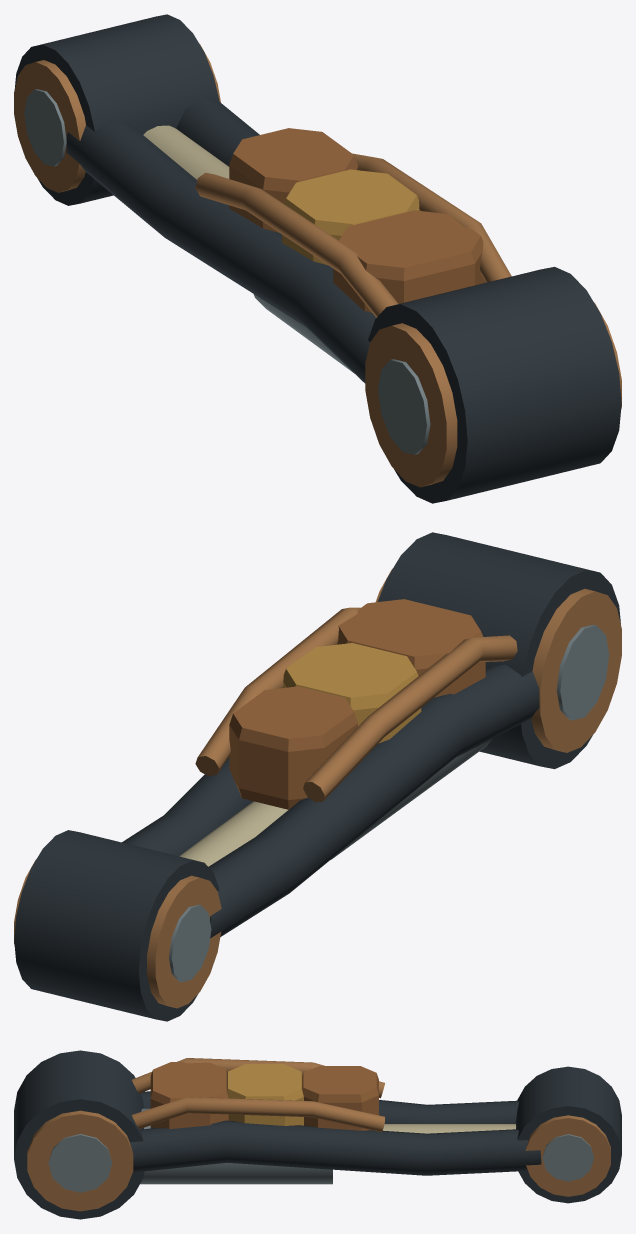
The model's file is kharon_driver_shin.glb.
The picture shows the model from 3 angles, top to bottom: view 1: azimuth 30°, elevation 25°; view 2: azimuth 150°, elevation 25°; view 3: azimuth 270°, elevation 25°; orthographic projection. The views are drawn at different scales.
Visible parts, largest first — view 1: kharon_driver_shin; view 2: kharon_driver_shin; view 3: kharon_driver_shin.
Boxes of the visible parts, x1,y1,x2,y2 form: kharon_driver_shin: (14, 14, 621, 503); kharon_driver_shin: (14, 532, 621, 1021); kharon_driver_shin: (14, 1050, 621, 1219).
Size of the model in its own units: 1.4 by 1.36 by 6.23.
